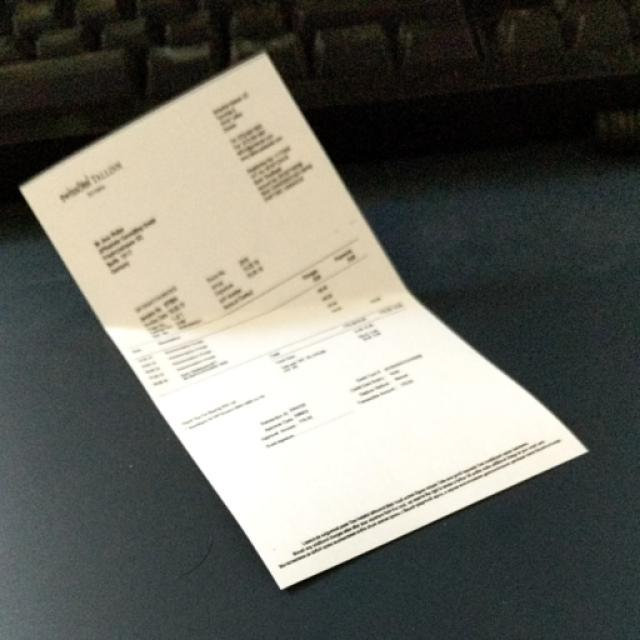document: (21, 54, 585, 589)
